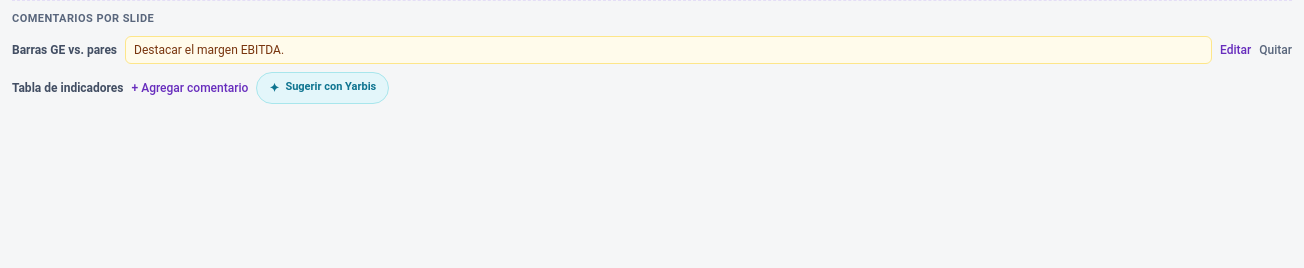
SlideNotes ("Comentarios por slide", HTML L2491-2530) › "Redactar con Yarbis" fills the editor without saving
Click the button with test id "slide-notes-comp-barras-edit": {"x": 1236, "y": 50} [1220,40,1251,58]
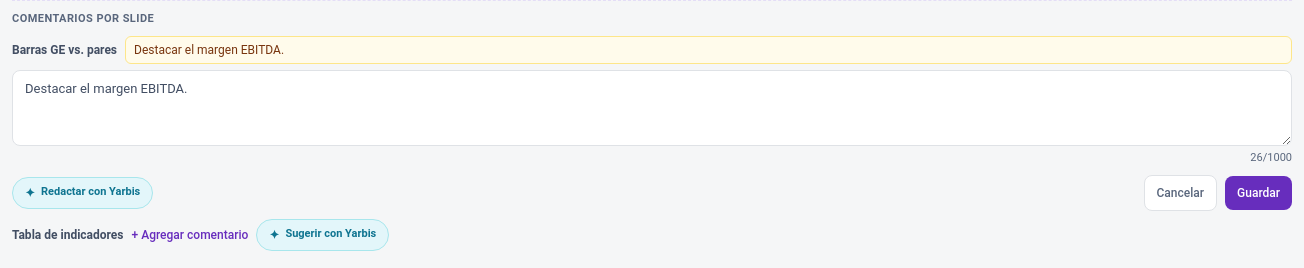
Click the button with test id "slide-notes-comp-barras-draft": {"x": 83, "y": 192} [12,176,153,208]
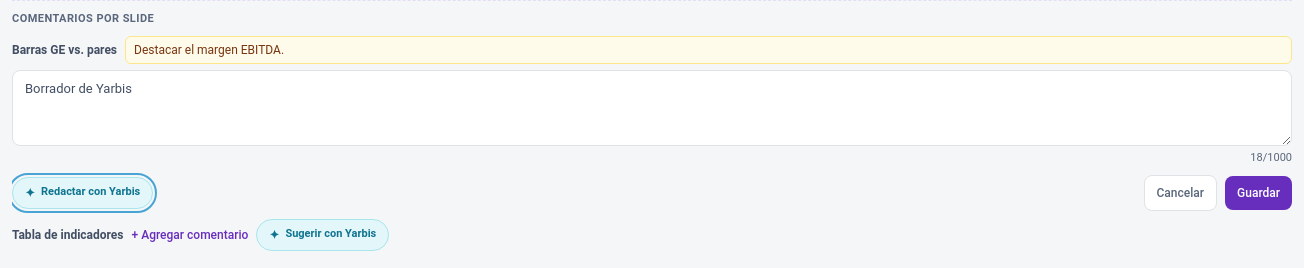
Expected: the text box showing "Borrador de Yarbis" is shown, [12,70,1292,146]
